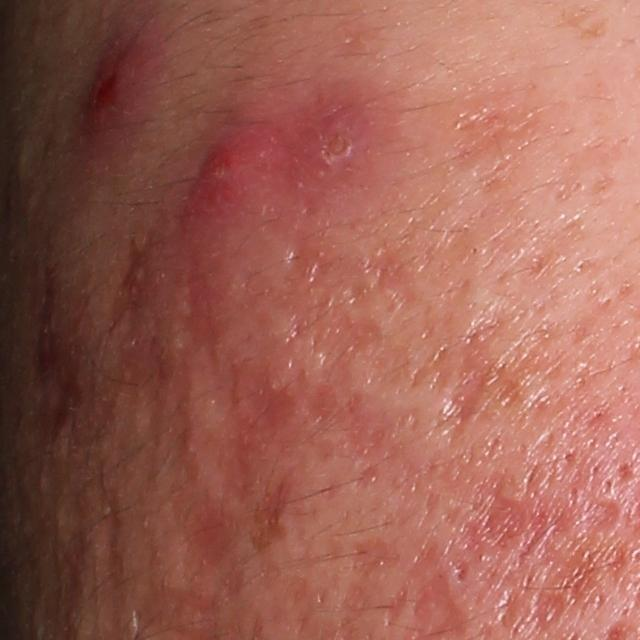atrophic_scar: (218, 242, 415, 467), (171, 279, 286, 507), (452, 470, 624, 550), (532, 538, 625, 630), (101, 223, 167, 341), (432, 340, 502, 431), (170, 497, 242, 583), (245, 473, 289, 556), (347, 538, 404, 582), (335, 581, 370, 618)
melasma: (555, 3, 608, 43)
papule: (173, 121, 293, 236), (78, 18, 169, 168), (282, 89, 390, 211)
